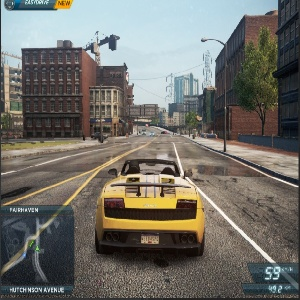building: (210, 11, 300, 142), (21, 47, 131, 135), (172, 68, 202, 129)
lamp post: (200, 29, 232, 156), (95, 70, 122, 144)
tree: (239, 28, 280, 139)
vehicle: (90, 128, 112, 140), (140, 127, 148, 136), (159, 129, 168, 136), (148, 130, 155, 137)
